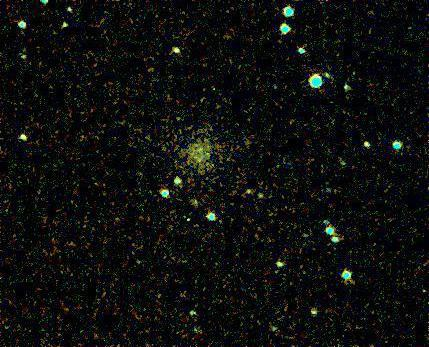star: (170, 209, 200, 239)
